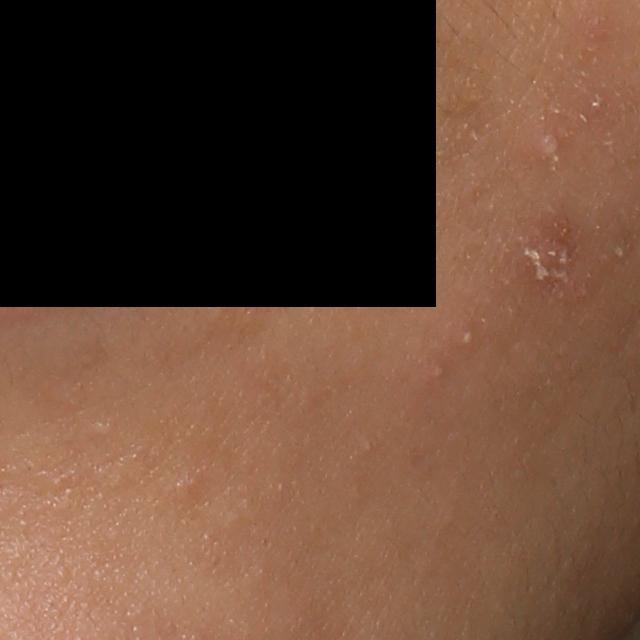pustule: (457, 327, 480, 350)
